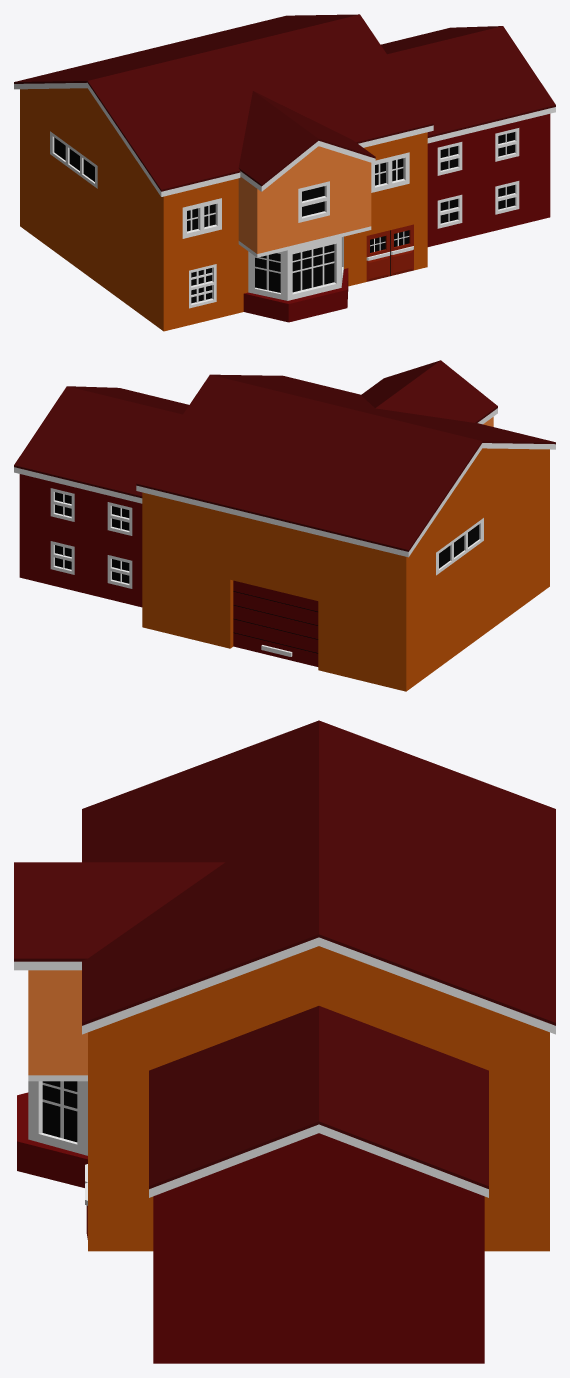
Rendered from House-20.fbx.
3 renders of one model, top to bottom at view 1: azimuth 30°, elevation 25°; view 2: azimuth 150°, elevation 25°; view 3: azimuth 270°, elevation 25°, orthographic. The views are drawn at different scales.
Parts seen in each view (by area): view 1: Cube; view 2: Cube; view 3: Cube.
Part boxes in pixels (x1=…): Cube: x1=14, y1=14, x2=555, y2=331; Cube: x1=14, y1=360, x2=555, y2=691; Cube: x1=14, y1=720, x2=555, y2=1363.
Size of what is drawn, in the model's own units: 18.9 by 8.65 by 13.27.
